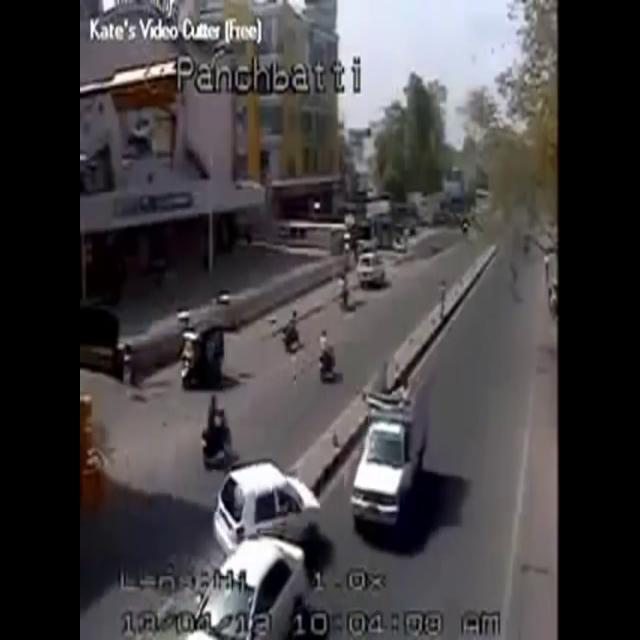multiple_accident: (188, 400, 343, 640)
normal: (337, 352, 458, 548), (273, 258, 357, 387), (182, 385, 242, 470)
